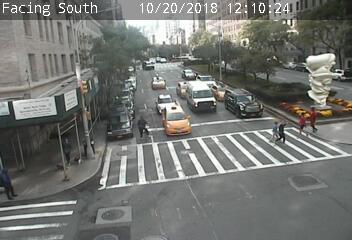carw: (222, 88, 265, 117), (161, 103, 191, 136), (188, 83, 217, 112), (198, 75, 216, 87), (151, 75, 166, 89), (181, 69, 194, 79)
